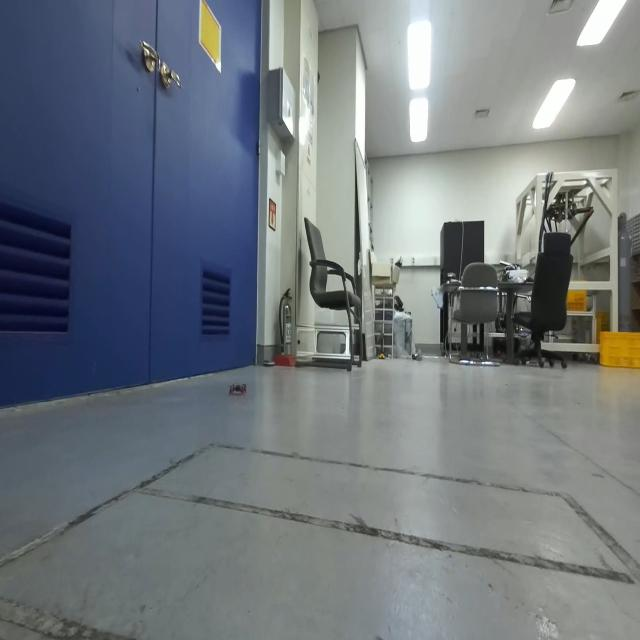crazyflie: (224, 377, 251, 401)
